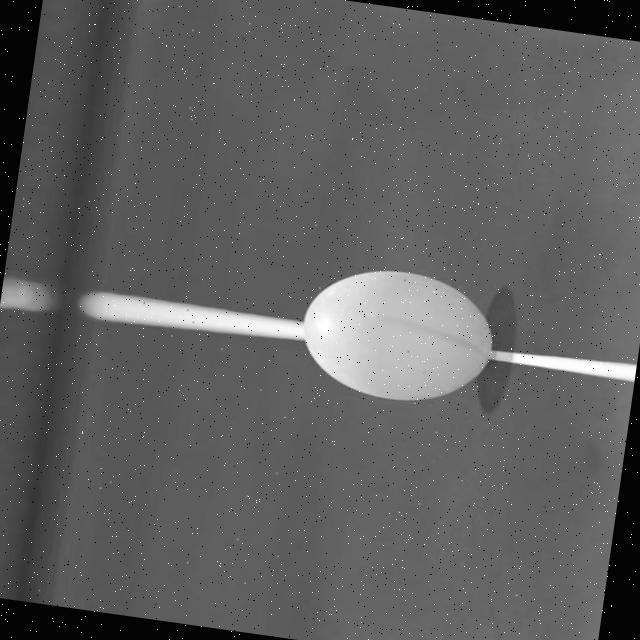ping-pong-ball: (289, 256, 501, 414)
